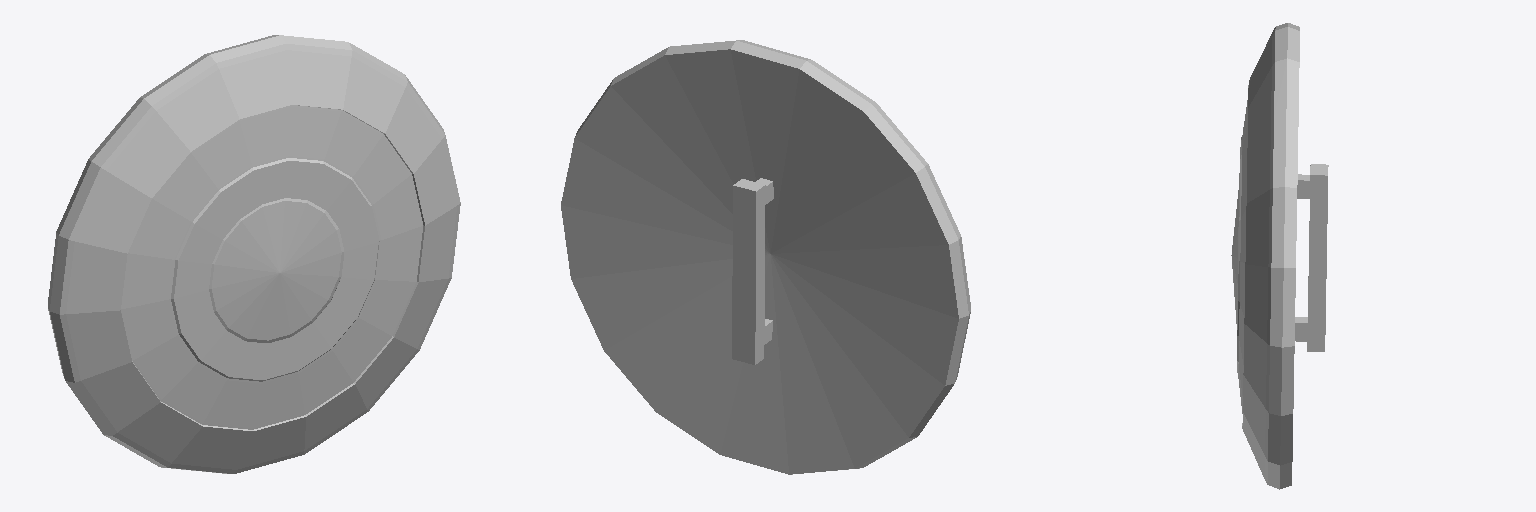
File: shield.obj
The picture shows the model from 3 angles: view 1: azimuth 30°, elevation 25°; view 2: azimuth 150°, elevation 25°; view 3: azimuth 270°, elevation 25°; orthographic projection.
Parts seen in each view (by area): view 1: Handle1; view 2: Handle1; view 3: Handle1.
Part boxes in pixels (left/top/right/bottom): Handle1: left=48, top=35, right=460, bottom=473; Handle1: left=561, top=40, right=970, bottom=474; Handle1: left=1231, top=23, right=1328, bottom=489.
Bounding box in the file's own units: 2.3 × 2.28 × 0.474.